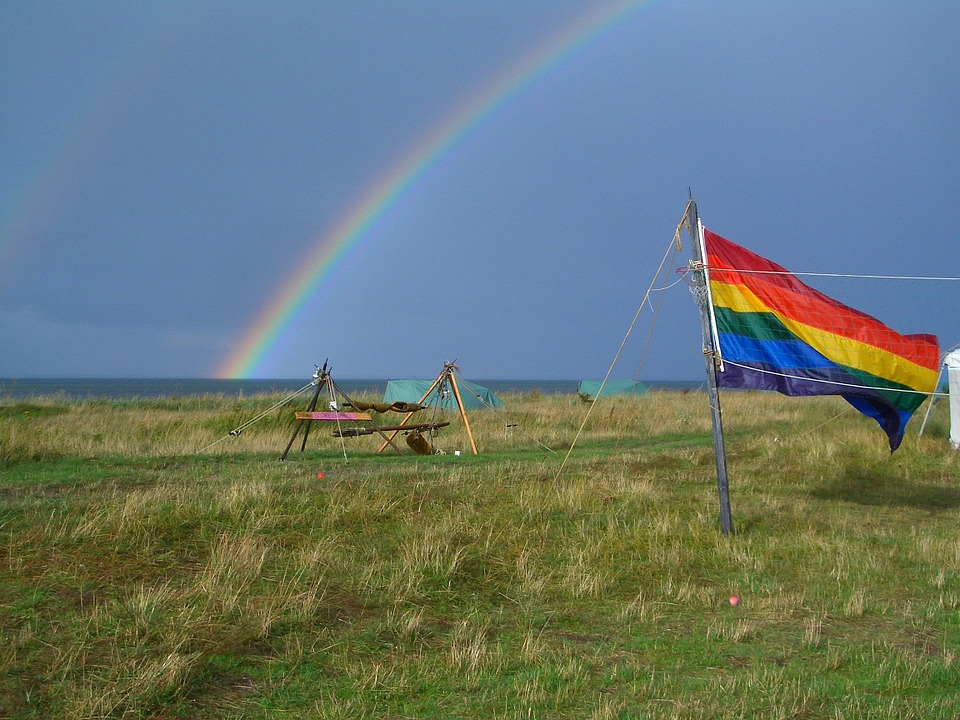Flag: (683, 219, 953, 467)
